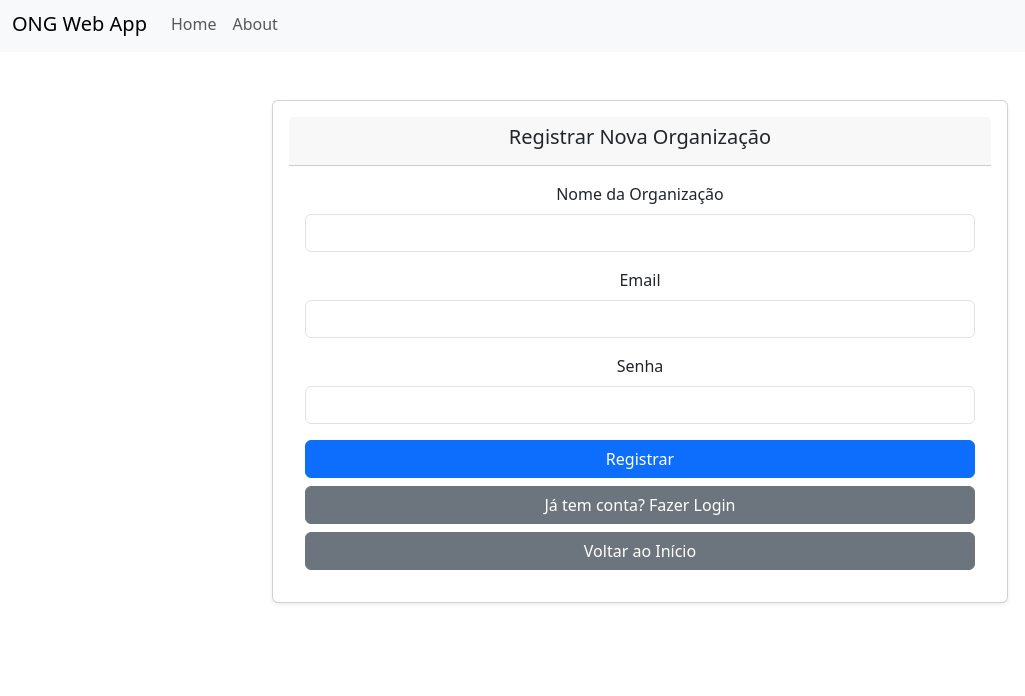
Register page flow › failed registration shows error
The width and height of the screenshot is (1025, 696).
Step 1. Type "Test Organization" into the field labelled "Nome da Organização" → (640,233), box [305, 214, 975, 252]
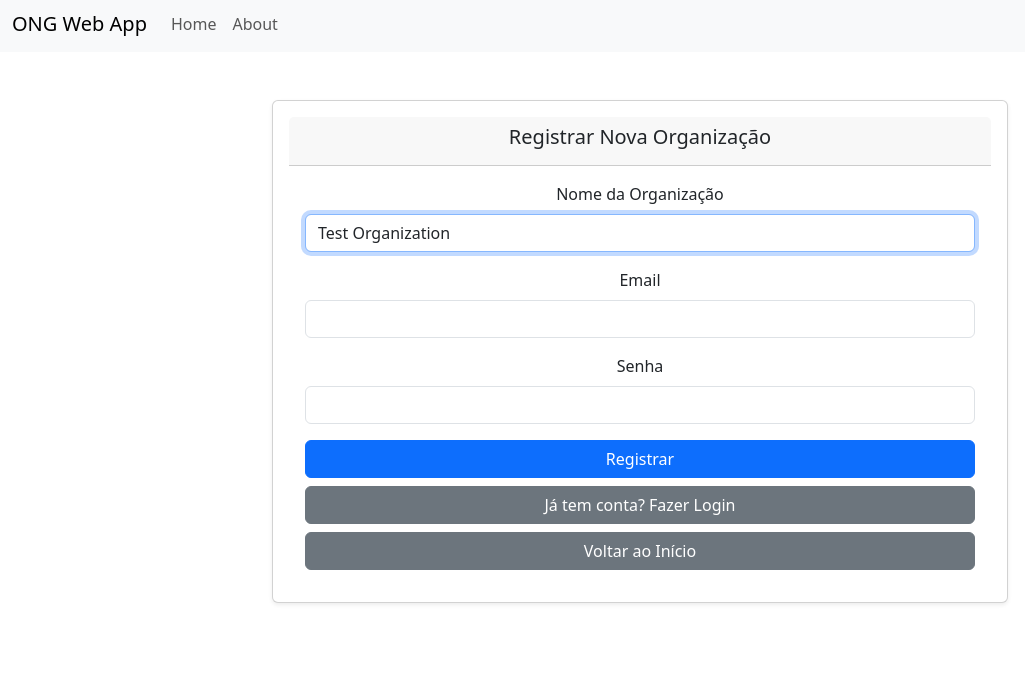
Step 2. Type "existing@example.com" into the field labelled "Email" → (640,319), box [305, 300, 975, 338]
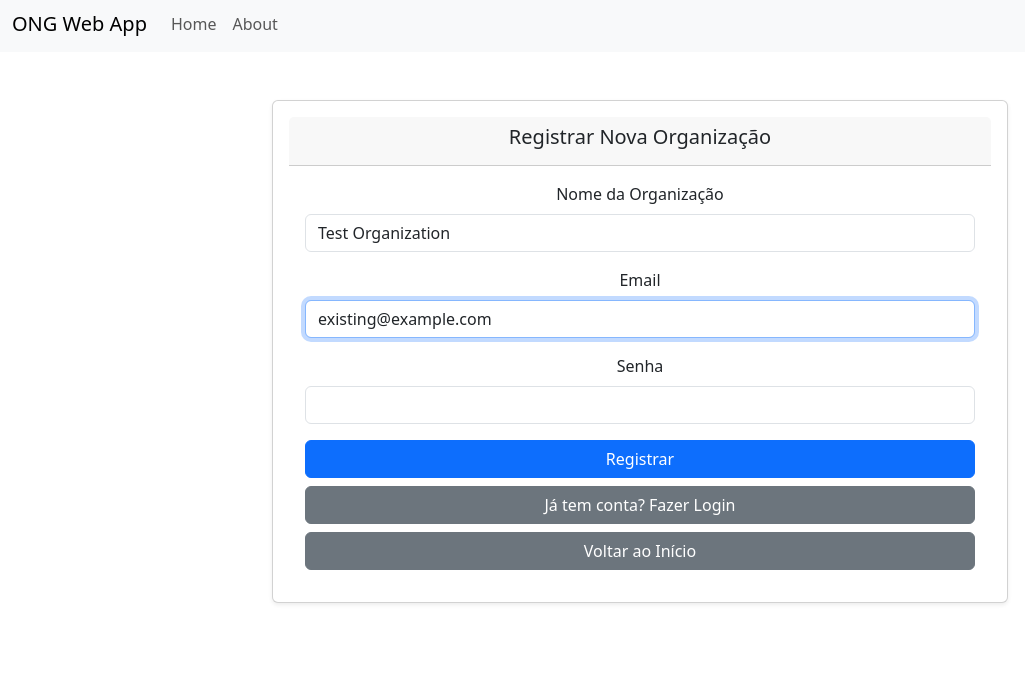
Step 3. Type "password123" into the password field labelled "Senha" → (640,405), box [305, 386, 975, 424]
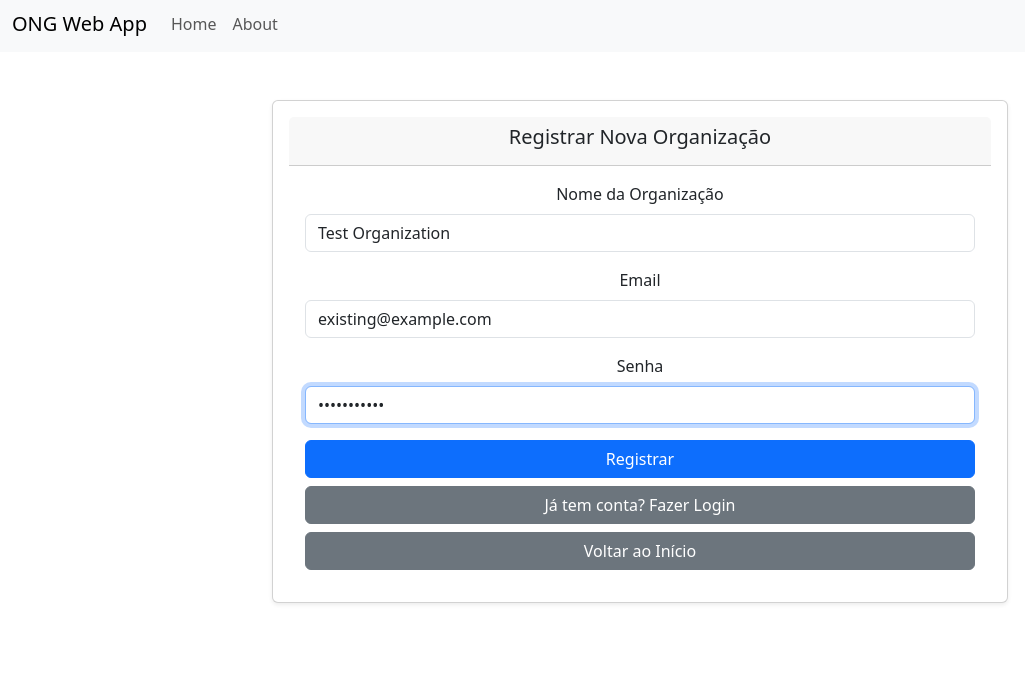
Step 4. Click the button "Registrar" → (640,459), box [305, 440, 975, 478]
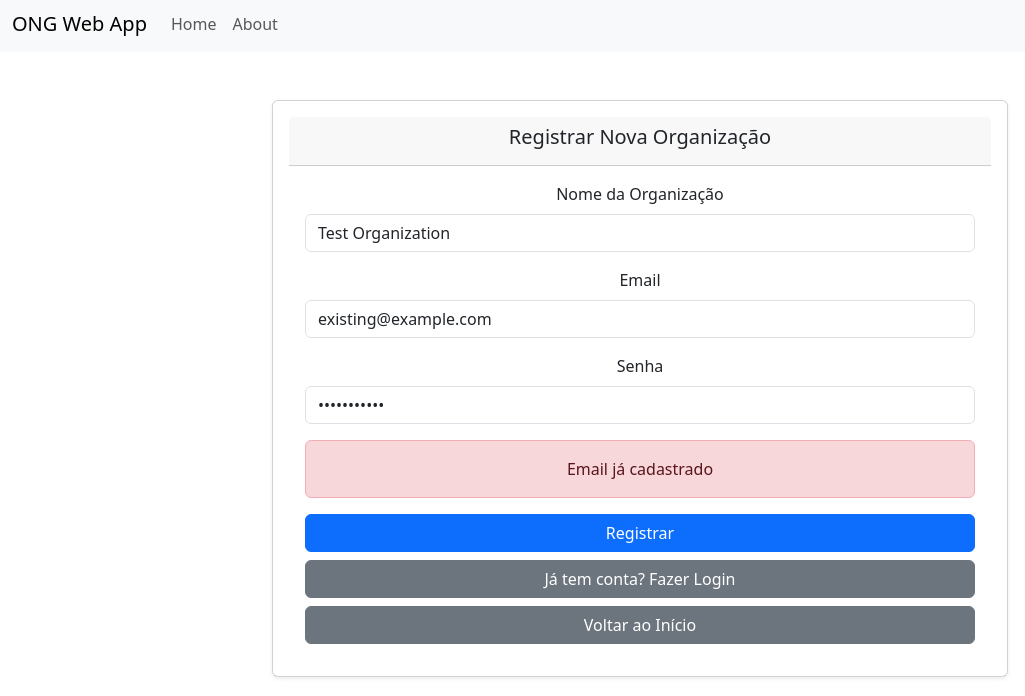
expect the text "Email já cadastrado" is shown: met, box [305, 440, 975, 498]
